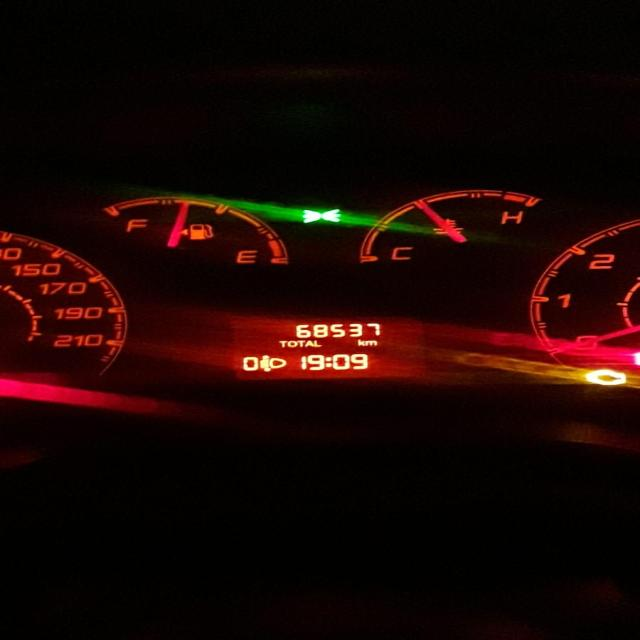odometer: (220, 314, 436, 380)
